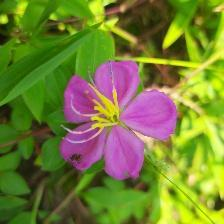malabar melastome: (58, 60, 182, 186)
